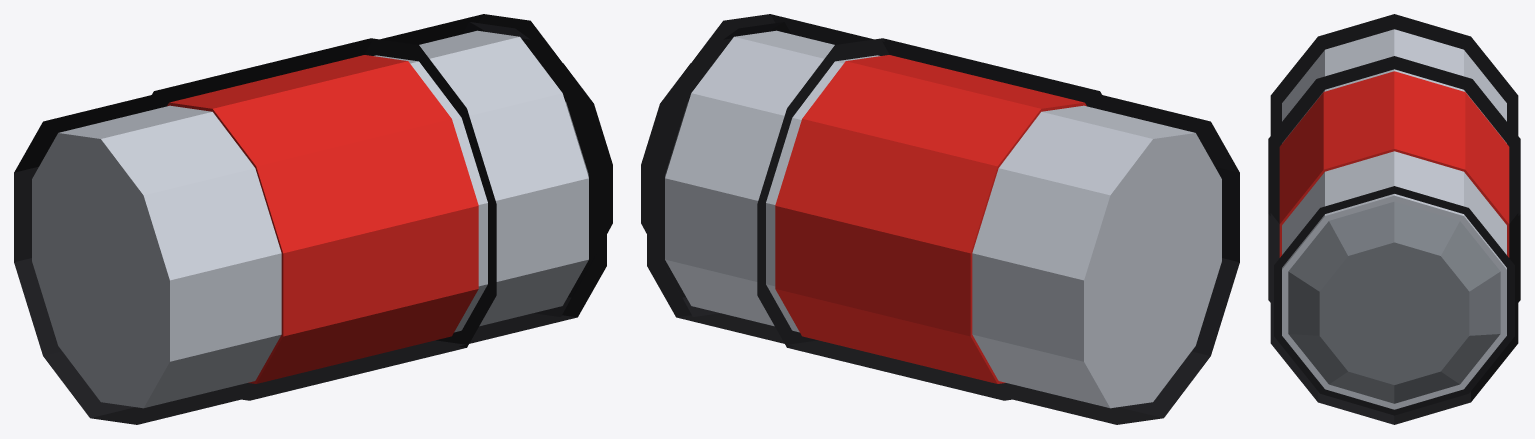
The model's file is Basura_Lata.fbx.
3 renders of one model, left to right at view 1: azimuth 30°, elevation 25°; view 2: azimuth 150°, elevation 25°; view 3: azimuth 270°, elevation 25°, orthographic. The views are drawn at different scales.
Visible parts, largest first — view 1: Basura_Lata; view 2: Basura_Lata; view 3: Basura_Lata.
Part boxes in pixels (box(x1,y1,x2,y2)): Basura_Lata: box(14, 14, 612, 424); Basura_Lata: box(641, 14, 1239, 424); Basura_Lata: box(1268, 14, 1520, 424).
Bounding box in the file's own units: 0.3388 × 0.2024 × 0.1925.
2 materials, 1 textured.
